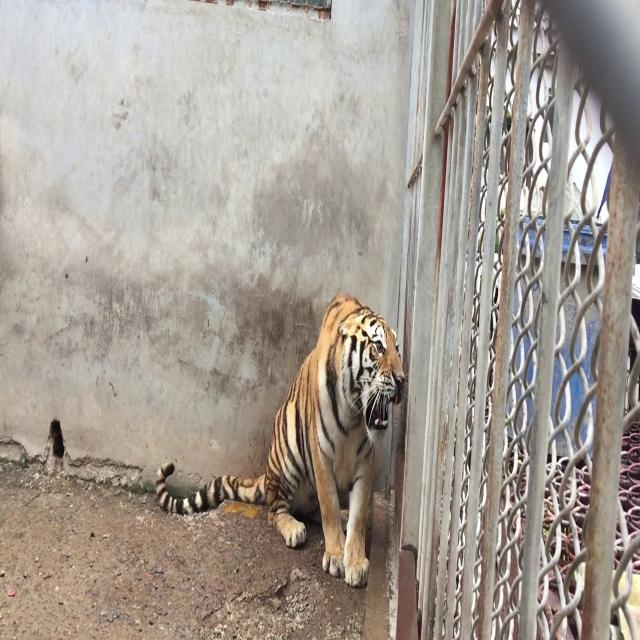Tiger: (121, 227, 421, 614)
